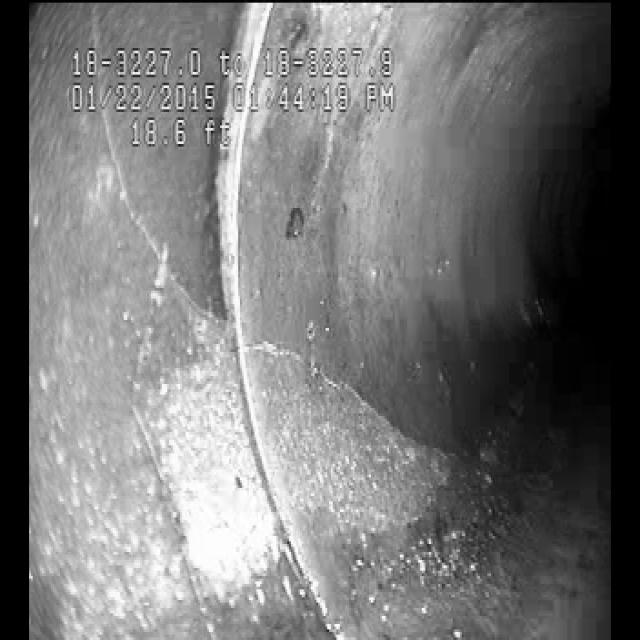Crack: (172, 224, 420, 460)
